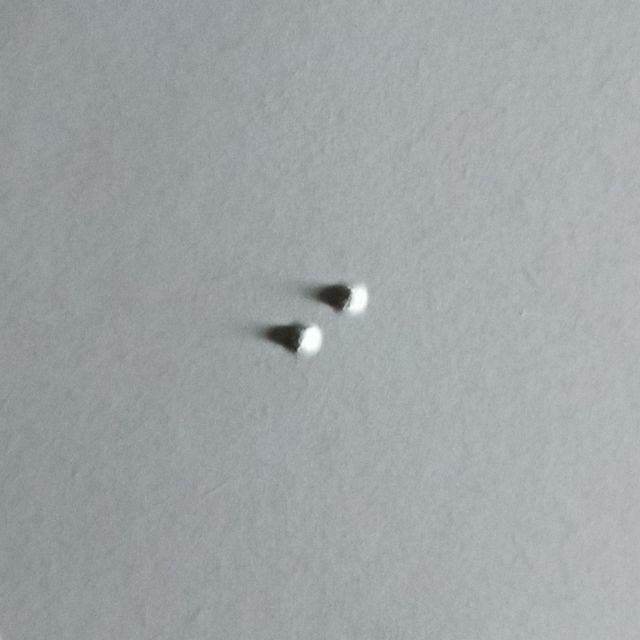i: (283, 285, 370, 408)
